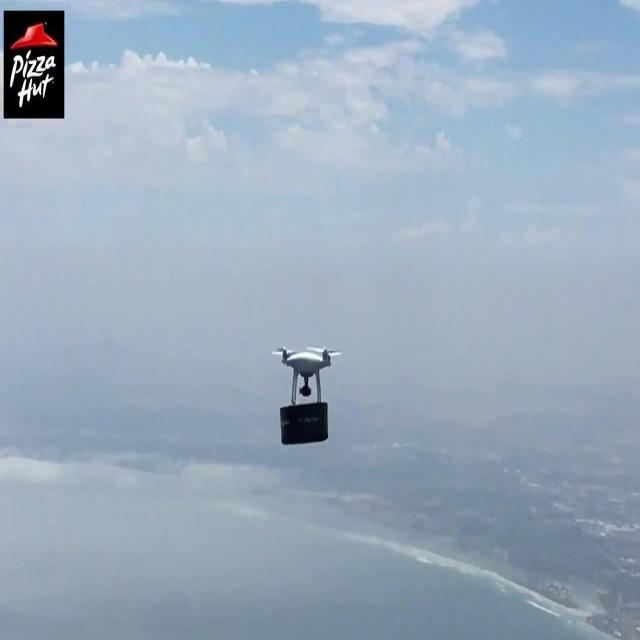drone: (270, 346, 342, 448)
